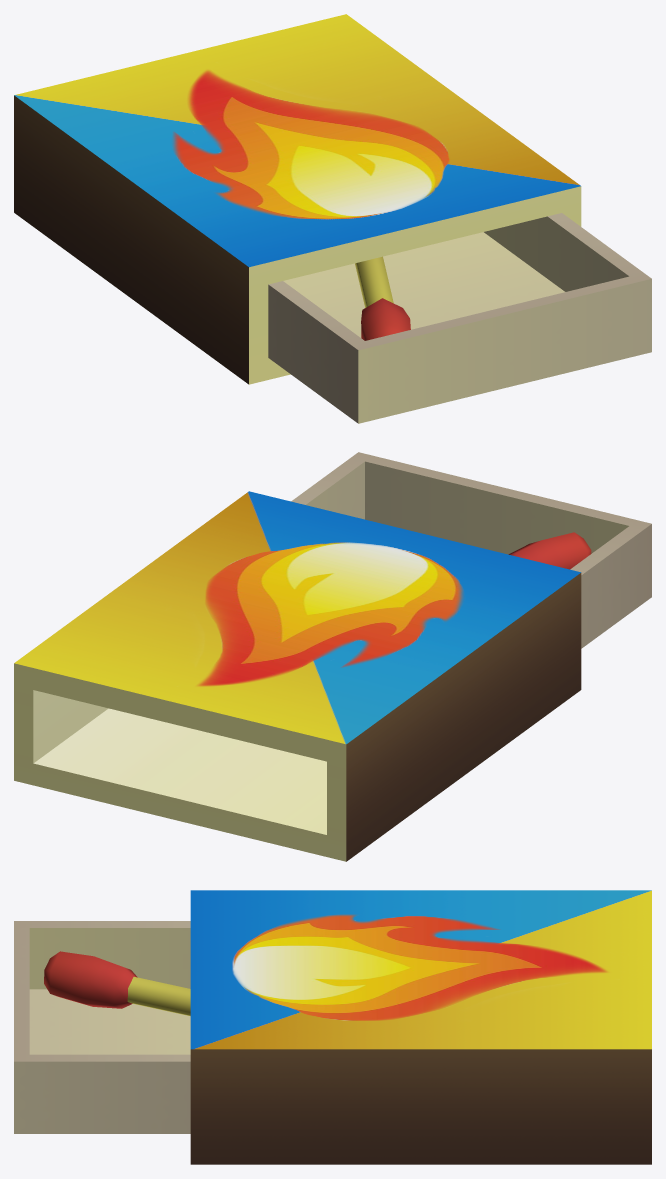
The model's file is SM_Match.fbx.
The picture shows the model from 3 angles, top to bottom: view 1: azimuth 30°, elevation 25°; view 2: azimuth 150°, elevation 25°; view 3: azimuth 270°, elevation 25°; orthographic projection.
Visible parts, largest first — view 1: SM_Match_box, SM_Match; view 2: SM_Match_box, SM_Match; view 3: SM_Match_box, SM_Match.
Part boxes in pixels (bbox=[...]): SM_Match_box: bbox=[14, 14, 651, 423]; SM_Match: bbox=[355, 256, 410, 340]; SM_Match_box: bbox=[14, 452, 651, 861]; SM_Match: bbox=[508, 532, 591, 569]; SM_Match_box: bbox=[14, 890, 651, 1164]; SM_Match: bbox=[44, 951, 190, 1016].
Size of the model in its own units: 43.7 by 14.75 by 73.99.
